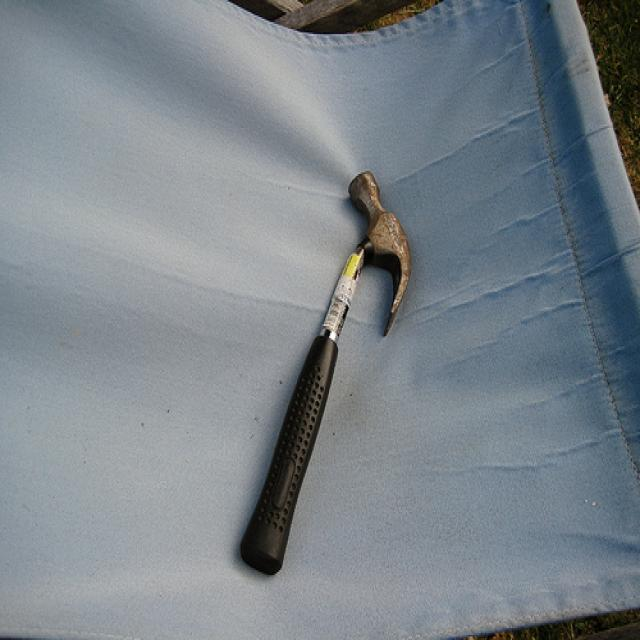hammer: (260, 112, 438, 505)
